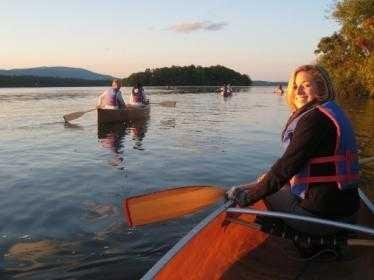kayak: (138, 193, 373, 278), (122, 184, 226, 229), (63, 101, 149, 126), (95, 79, 127, 112), (98, 105, 146, 122), (218, 83, 233, 97)
